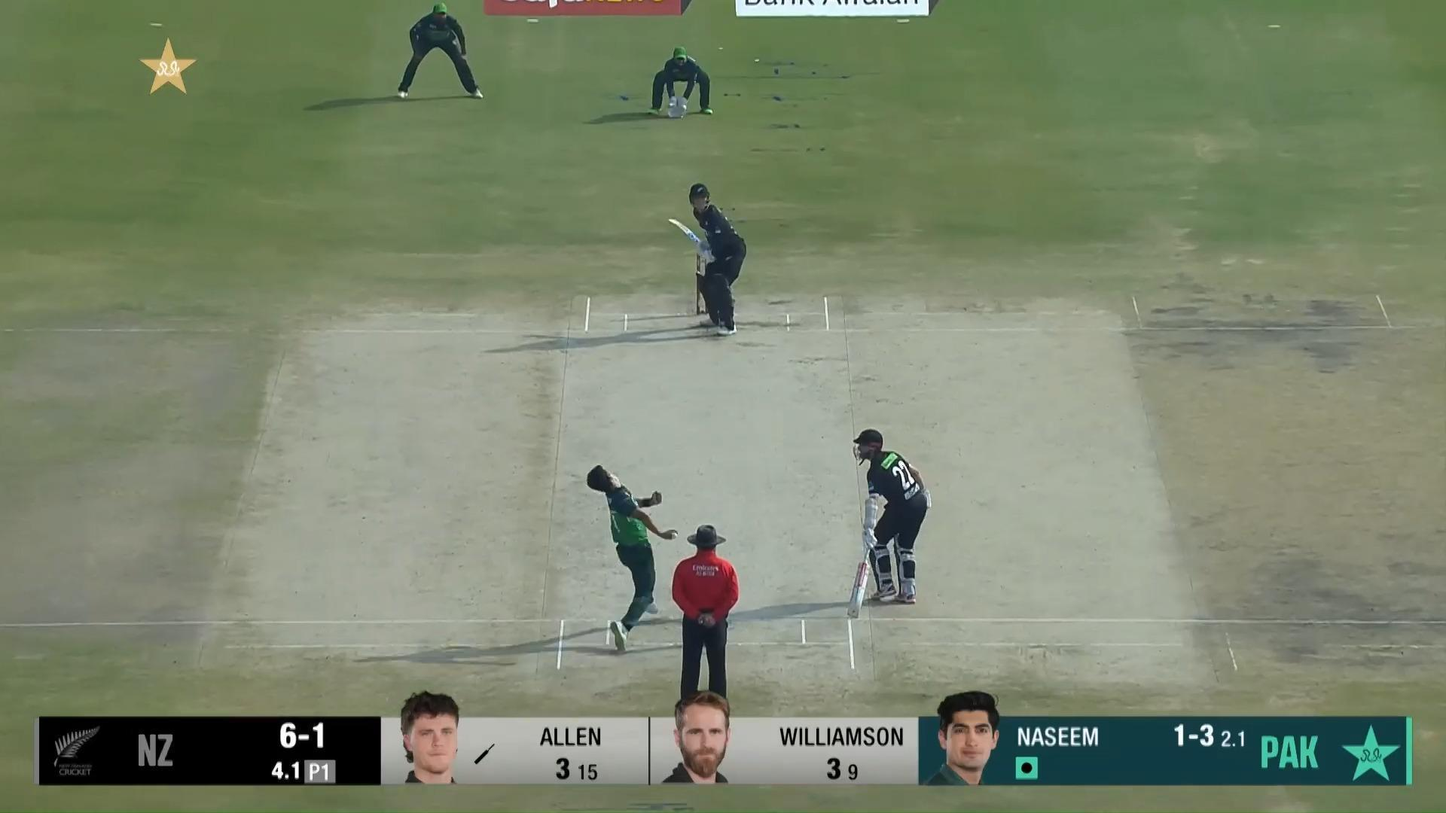BM 1: (669, 182, 748, 336)
BO: (587, 463, 678, 650)
